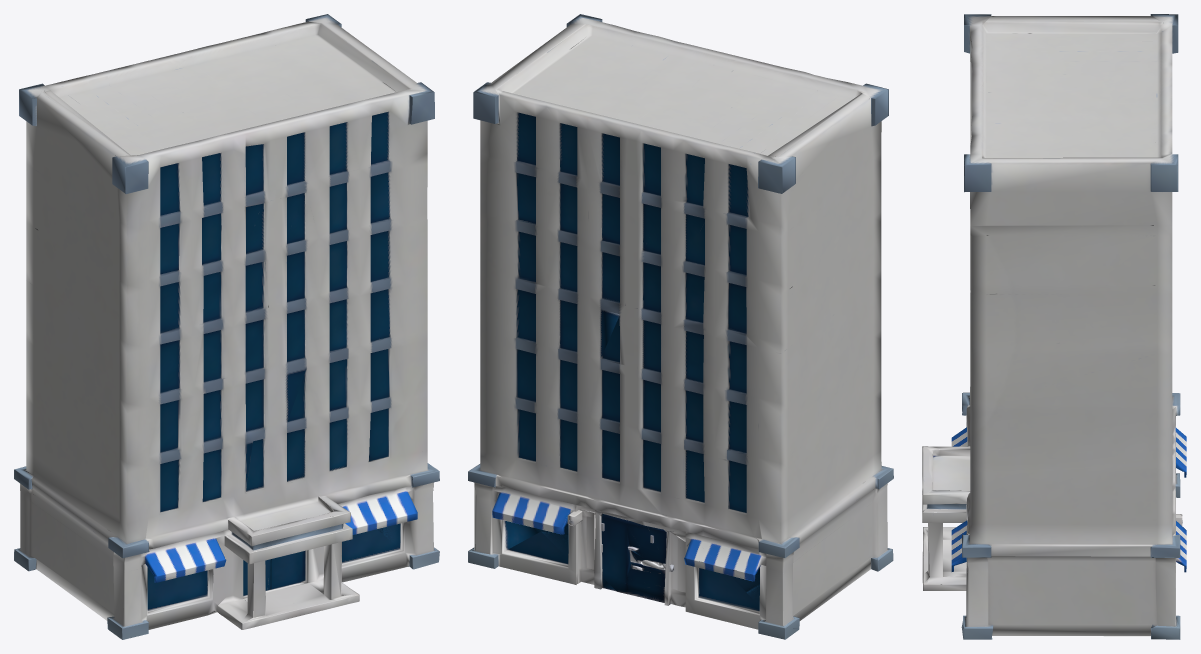
Rendered from 16-hotel.glb.
3 renders of one model, left to right at view 1: azimuth 30°, elevation 25°; view 2: azimuth 150°, elevation 25°; view 3: azimuth 270°, elevation 25°, orthographic.
Visible parts, largest first — view 1: geometry_0; view 2: geometry_0; view 3: geometry_0.
Part boxes in pixels (box(x1,y1,x2,y2)): geometry_0: box(14, 14, 439, 639); geometry_0: box(468, 14, 893, 639); geometry_0: box(922, 14, 1186, 639).
Bounding box in the file's own units: 0.6699 × 0.9517 × 0.4819.
1 material, 1 textured.
